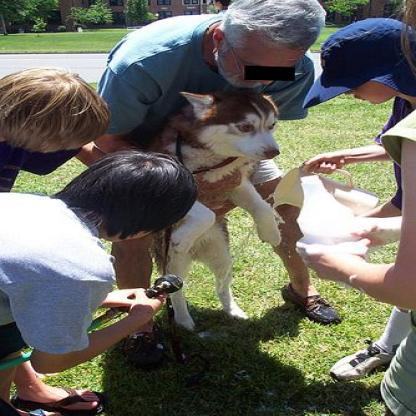Siberian_husky: (136, 85, 312, 330)
